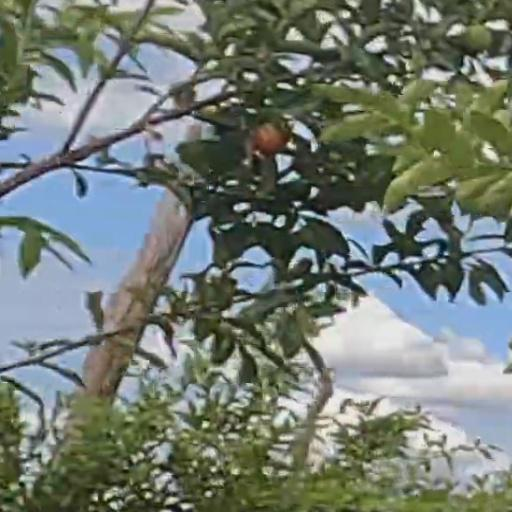acerola: (257, 123, 282, 155), (466, 28, 493, 52)
